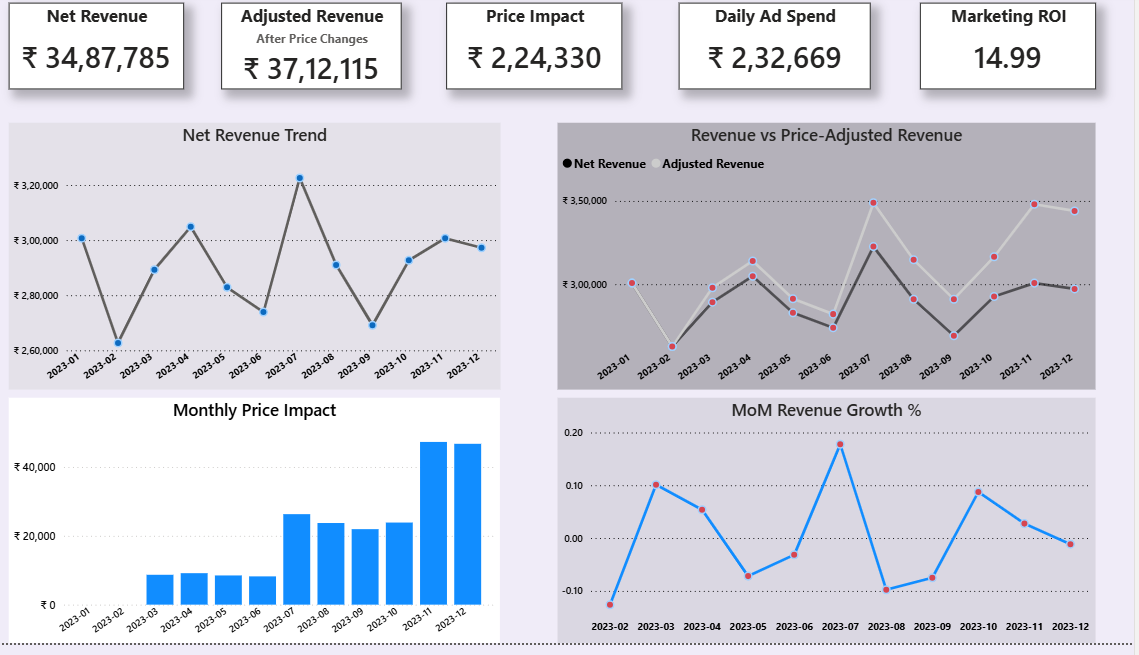

What the dashboard file says about the page in this screenshot:
{"tool":"powerbi","page":{"name":"KPI & TRENDS","canvas":[1280,720],"ordinal":1},"visuals":[{"type":"card","title":"Net Revenue","fields":{"Values":["_Sales Measures.Net Revenue"]},"box":[31.6,10.1,194.1,96.3],"z":0},{"type":"card","title":"Adjusted Revenue ","fields":{"Values":["_Sales Measures.Adjusted Revenue"]},"box":[267.4,10.1,199.8,96.3],"z":1000},{"type":"card","title":"Price Impact","fields":{"Values":["_Sales Measures.Price Impact"]},"box":[517.5,10.1,195.5,96.3],"z":2000},{"type":"card","title":"Daily Ad Spend","fields":{"Values":["_Sales Measures.Daily Ad Spend"]},"box":[774.9,10.1,212.8,96.3],"z":3000},{"type":"card","title":"Marketing ROI","fields":{"Values":["_Sales Measures.Marketing ROI"]},"box":[1042.2,10.1,195.5,96.3],"z":4000},{"type":"lineChart","title":"Net Revenue Trend ","fields":{"Category":["Calendar.YearMonth Hierarchy.YearMonth","Calendar.YearMonth"],"Y":["_Sales Measures.Net Revenue"]},"box":[31.4,142.9,545.7,295.7],"z":5000},{"type":"lineChart","title":"Revenue vs Price-Adjusted Revenue","fields":{"Category":["Calendar.YearMonth Hierarchy.YearMonth","Calendar.YearMonth"],"Y":["_Sales Measures.Net Revenue","_Sales Measures.Adjusted Revenue"]},"box":[641.2,142.3,596.6,296.1],"z":6000},{"type":"columnChart","title":"Monthly Price Impact","fields":{"Category":["Calendar.YearMonth Hierarchy.YearMonth","Calendar.YearMonth"],"Y":["_Sales Measures.Price Impact"]},"box":[31.6,448.5,544.8,271.7],"z":7000},{"type":"lineChart","title":"MoM Revenue Growth %","fields":{"Category":["Calendar.YearMonth Hierarchy.YearMonth","Calendar.YearMonth"],"Y":["_Sales Measures.MoM Growth %"]},"box":[641.2,448.5,596.6,271.7],"z":8000}]}

Visuals, with their boxes in screenshot pixels (x1, y1, x2, y2), scaled from the page's 1280x720 canvas onto the 1139x655 screenshot:
"Net Revenue" card: (28, 9, 201, 97)
"Adjusted Revenue " card: (238, 9, 416, 97)
"Price Impact" card: (460, 9, 634, 97)
"Daily Ad Spend" card: (690, 9, 879, 97)
"Marketing ROI" card: (927, 9, 1101, 97)
"Net Revenue Trend " lineChart: (28, 130, 514, 399)
"Revenue vs Price-Adjusted Revenue" lineChart: (571, 129, 1101, 399)
"Monthly Price Impact" columnChart: (28, 408, 513, 654)
"MoM Revenue Growth %" lineChart: (571, 408, 1101, 654)
